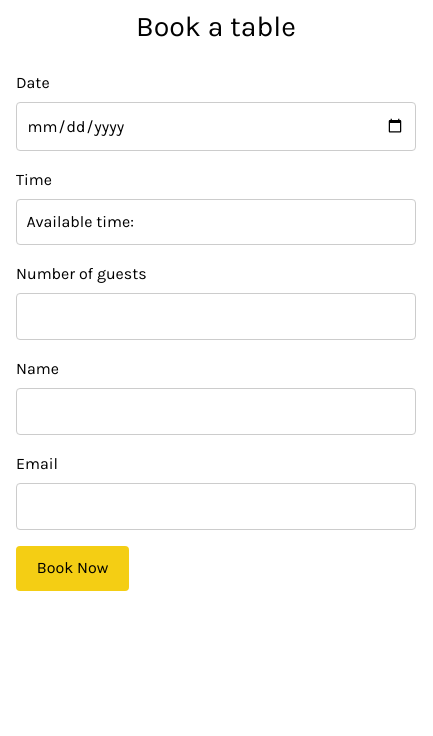
it: BookingForm › displays error messages for invalid data
Click the button "Book Now": (73, 568) [16, 546, 129, 591]
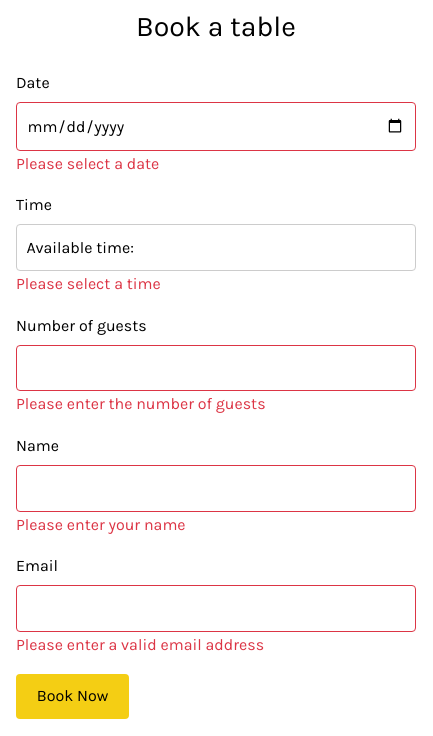
Expected: the text "Please select a date" is shown, [16, 154, 159, 173]
Expected: the text "Please select a time" is shown, [16, 274, 161, 293]
Expected: the text "Please enter the number of guests" is shown, [16, 394, 266, 413]
